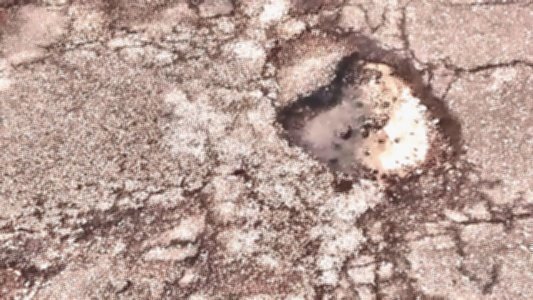pothole: (267, 41, 468, 196), (0, 257, 46, 299)
